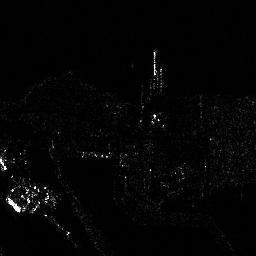ship: (6, 196, 21, 213)
